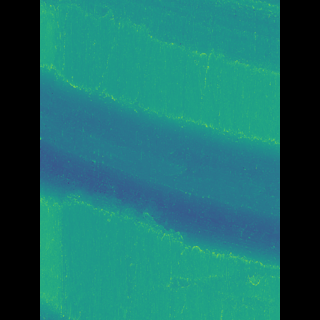Loch: (70, 58, 249, 271), (97, 0, 249, 75)
